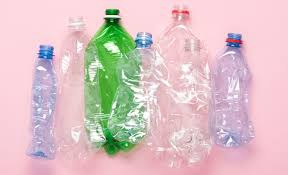plastic water bottle: (110, 31, 168, 152), (60, 12, 107, 158), (209, 30, 259, 152), (17, 40, 62, 162)
